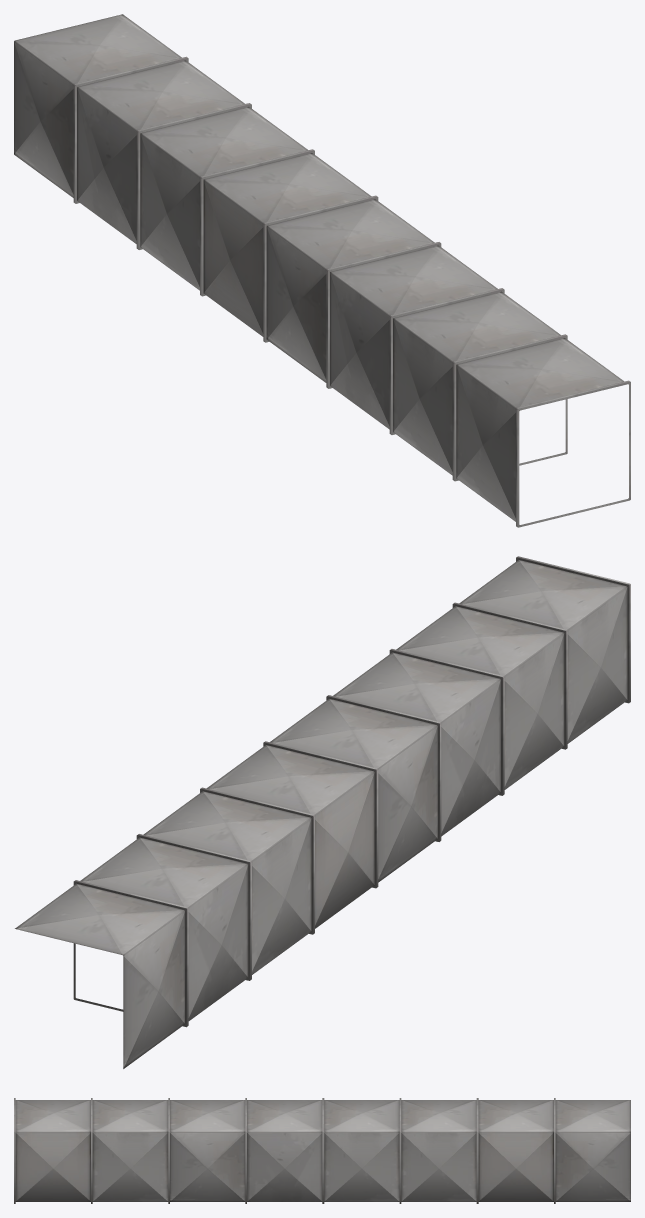
The picture shows the model from 3 angles, top to bottom: view 1: azimuth 30°, elevation 25°; view 2: azimuth 150°, elevation 25°; view 3: azimuth 270°, elevation 25°; orthographic projection. The views are drawn at different scales.
Visible parts, largest first — view 1: body0_model0_lod0_mesh0; view 2: body0_model0_lod0_mesh0; view 3: body0_model0_lod0_mesh0.
Part boxes in pixels (x1,y1,x2,y2): body0_model0_lod0_mesh0: (14,14,630,527); body0_model0_lod0_mesh0: (15,556,630,1068); body0_model0_lod0_mesh0: (14,1098,630,1203).
Bounding box in the file's own units: 68.99 × 68.99 × 512.
1 material, 1 textured.
